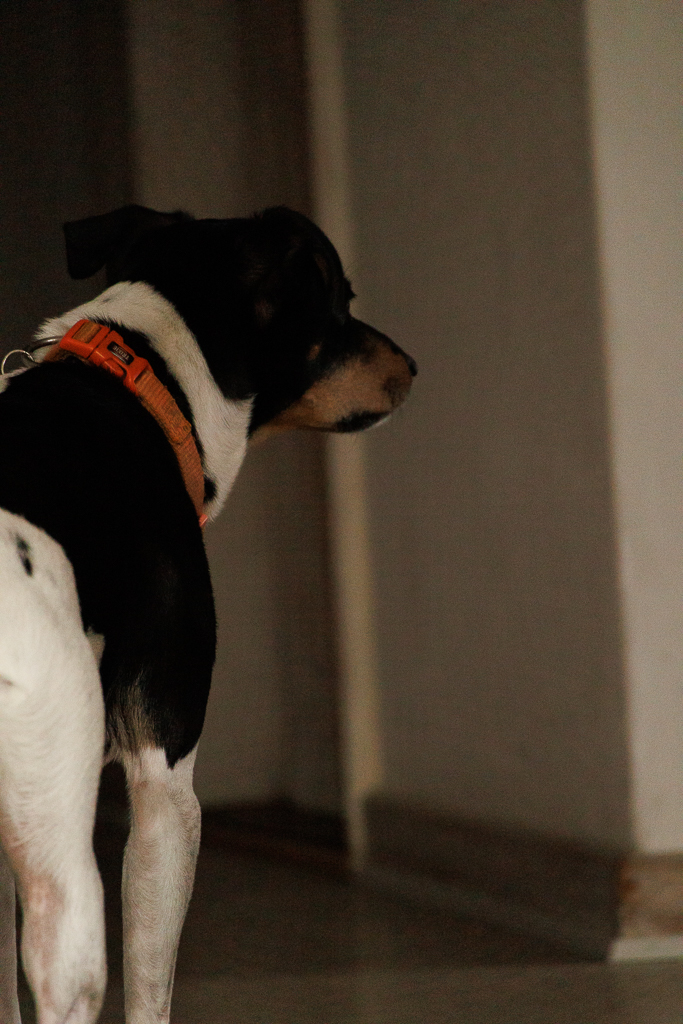Dog: (0, 189, 434, 1024)
